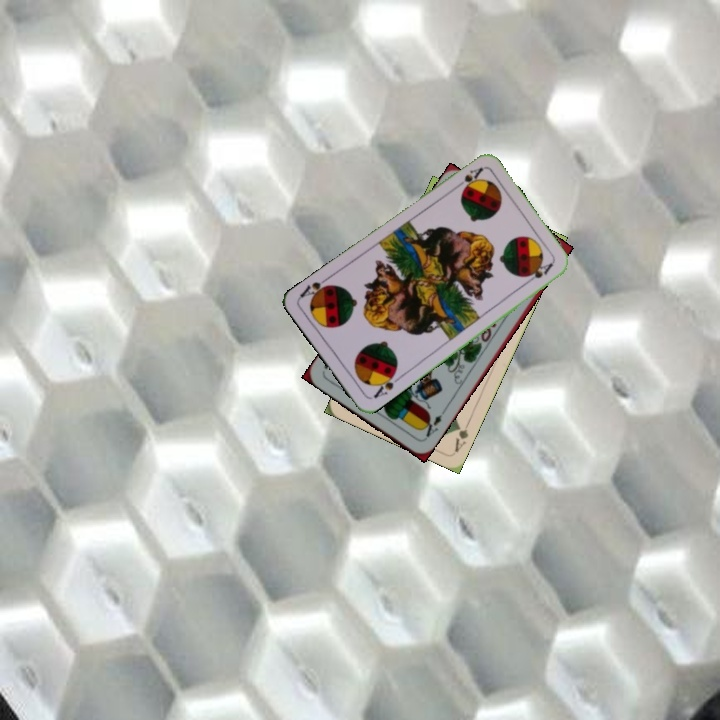EA: (417, 410, 445, 442)
GA: (450, 416, 473, 455)
SA: (369, 367, 404, 401), (450, 163, 486, 193)
